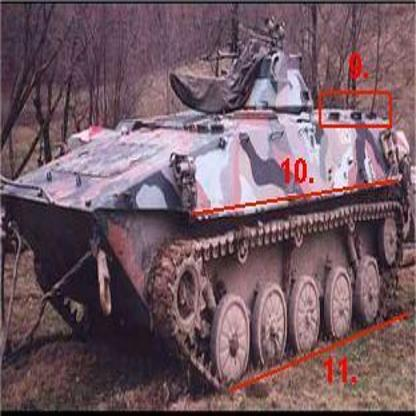Tank: (2, 16, 416, 398)
